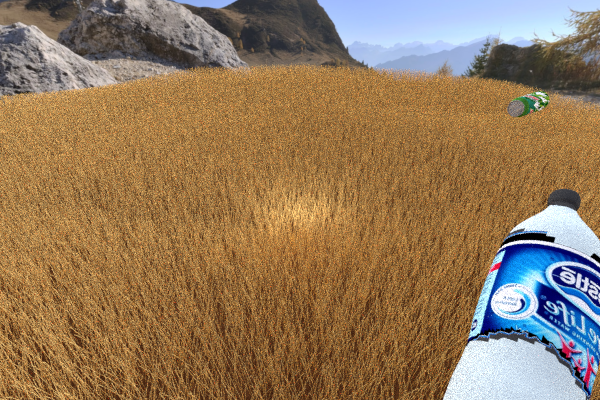bottle: (428, 188, 600, 400)
can: (507, 91, 549, 117)
